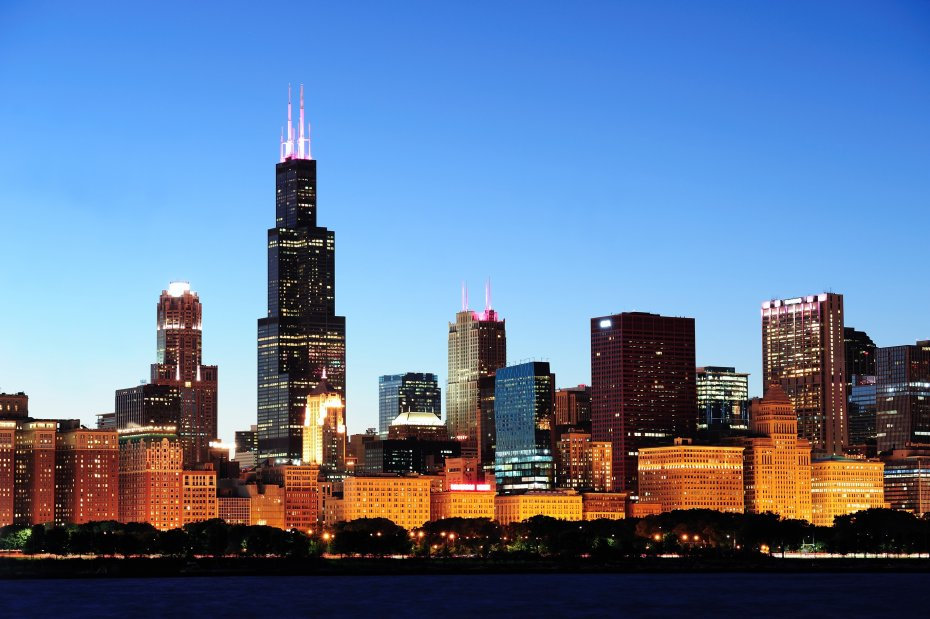willis: (249, 72, 356, 438)
